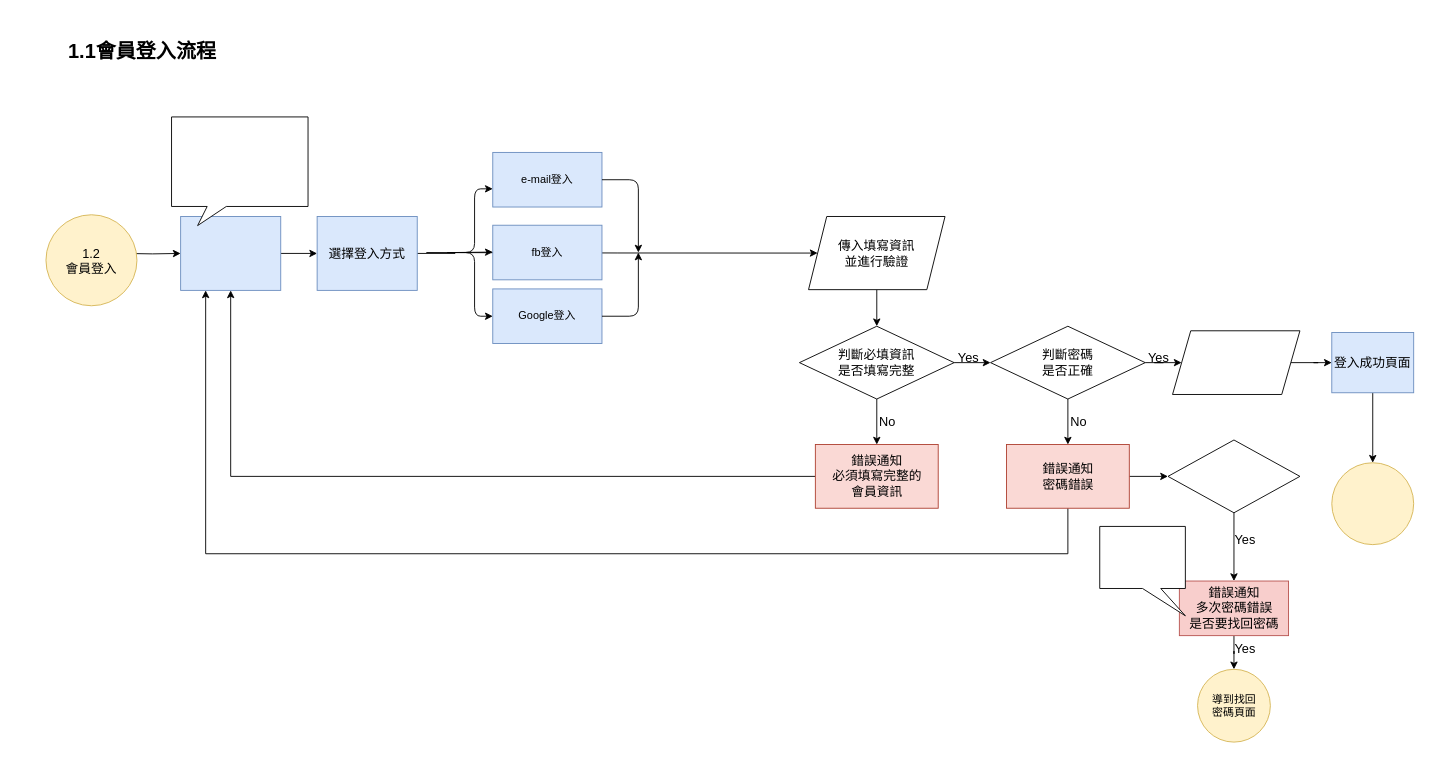
Some shapes in this 1430 by 758 pixel diagram are drawn without their labels. Each missing label, with the centre of its shape:
判斷密碼是否 多次輸入錯誤: (1233,476)
會員登入頁: (230,253)
欄位: E-mail 信箱* 註冊密碼* (*為必填欄位): (239,171)
系統驗證完成: (1236,362)
自動導回 註冊前頁面: (1372,503)
這裡會有按鈕連到找回密碼的連結: (1142,571)
